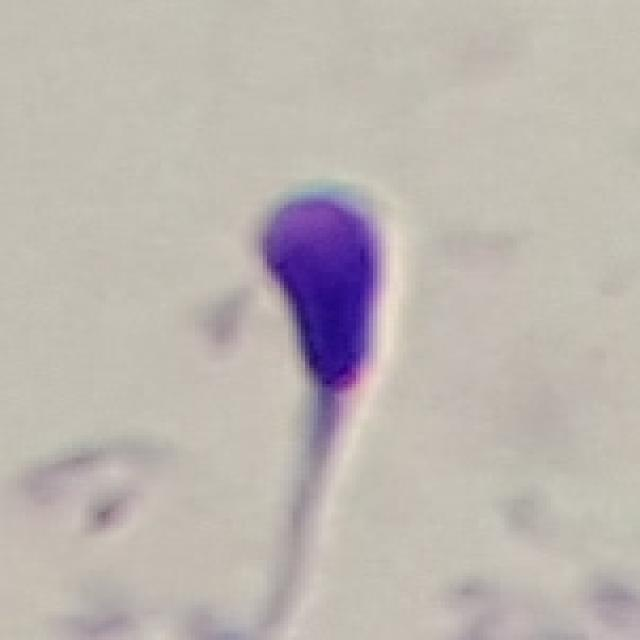abnormal sperm: (248, 173, 390, 617)
